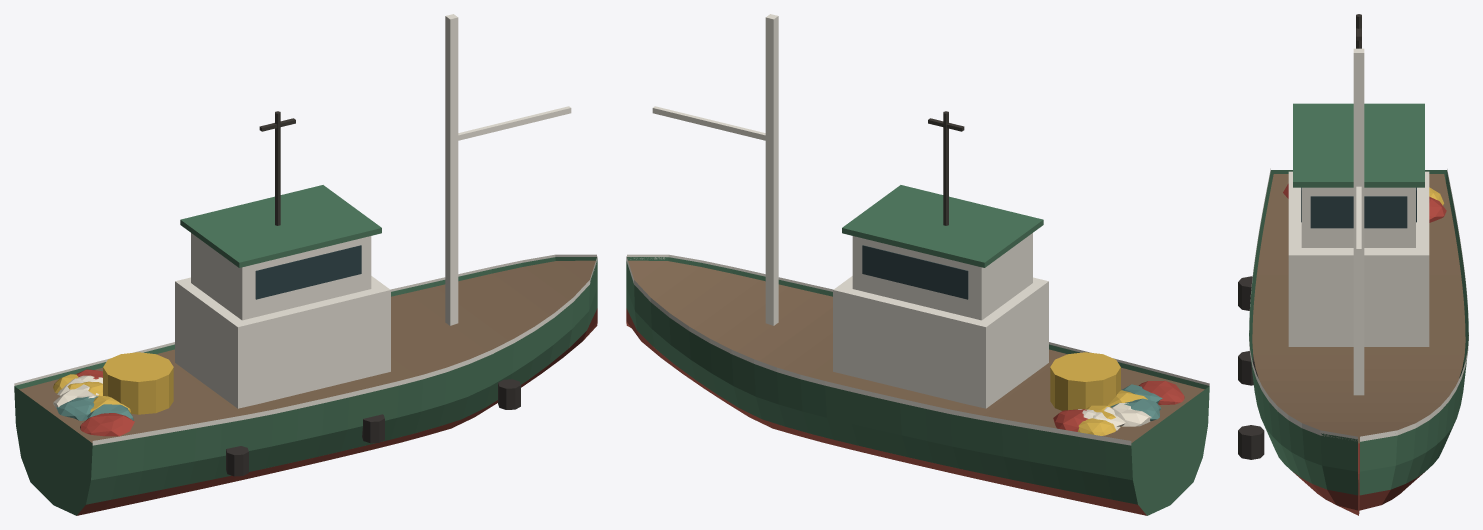
The model's file is girgir-teknesi-yesil.glb.
The picture shows the model from 3 angles, left to right: view 1: azimuth 30°, elevation 25°; view 2: azimuth 150°, elevation 25°; view 3: azimuth 270°, elevation 25°; orthographic projection. The views are drawn at different scales.
Visible parts, largest first — view 1: tekne_yesil, tekne_beyaz, ahsap, beyaz, tekne_sari, karina, cam, kauçuk, kirmizi, kepenk2, demir, ip; view 2: tekne_yesil, tekne_beyaz, ahsap, beyaz, tekne_sari, karina, cam, kirmizi, ip, demir, kepenk2; view 3: ahsap, tekne_yesil, tekne_beyaz, beyaz, cam, kauçuk, karina, kirmizi.
Boxes of the visible parts, bbox=[...] form: tekne_yesil: bbox=[14, 185, 597, 515]; tekne_beyaz: bbox=[175, 233, 390, 408]; ahsap: bbox=[19, 260, 595, 442]; beyaz: bbox=[14, 14, 597, 445]; tekne_sari: bbox=[53, 352, 173, 414]; karina: bbox=[77, 308, 597, 515]; cam: bbox=[255, 245, 361, 299]; kauçuk: bbox=[226, 379, 520, 476]; kirmizi: bbox=[75, 369, 134, 436]; kepenk2: bbox=[56, 396, 133, 420]; demir: bbox=[259, 111, 295, 225]; ip: bbox=[53, 375, 102, 408]; tekne_yesil: bbox=[626, 185, 1209, 515]; tekne_beyaz: bbox=[833, 233, 1048, 408]; ahsap: bbox=[628, 260, 1204, 442]; beyaz: bbox=[626, 14, 1209, 445]; tekne_sari: bbox=[1050, 352, 1147, 435]; karina: bbox=[626, 308, 1146, 515]; cam: bbox=[862, 245, 968, 299]; kirmizi: bbox=[1053, 380, 1184, 431]; ip: bbox=[1078, 403, 1151, 430]; demir: bbox=[928, 111, 964, 225]; kepenk2: bbox=[1110, 384, 1162, 421]; ahsap: bbox=[1252, 174, 1465, 443]; tekne_yesil: bbox=[1249, 103, 1468, 495]; tekne_beyaz: bbox=[1288, 171, 1429, 346]; beyaz: bbox=[1249, 48, 1468, 441]; cam: bbox=[1301, 187, 1416, 228]; kauçuk: bbox=[1238, 276, 1264, 459]; karina: bbox=[1293, 443, 1424, 515]; kirmizi: bbox=[1283, 183, 1446, 222].
Size of the model in its own units: 16 by 11 by 5.25.
